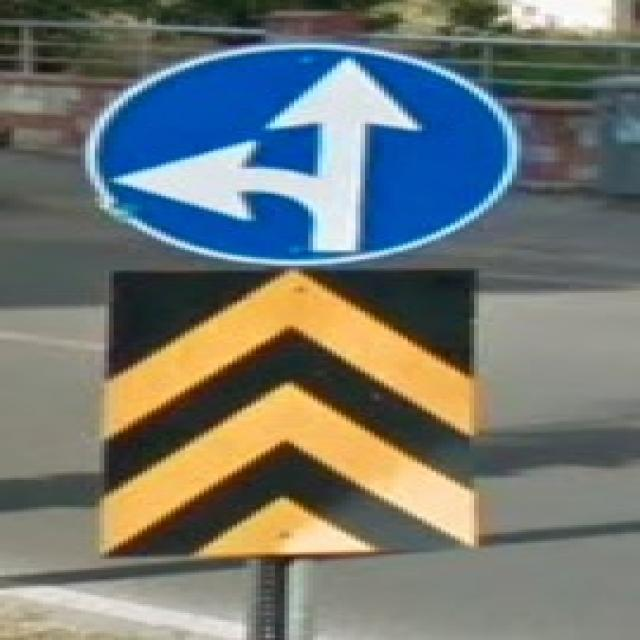Straight or Left: (87, 43, 523, 266)
